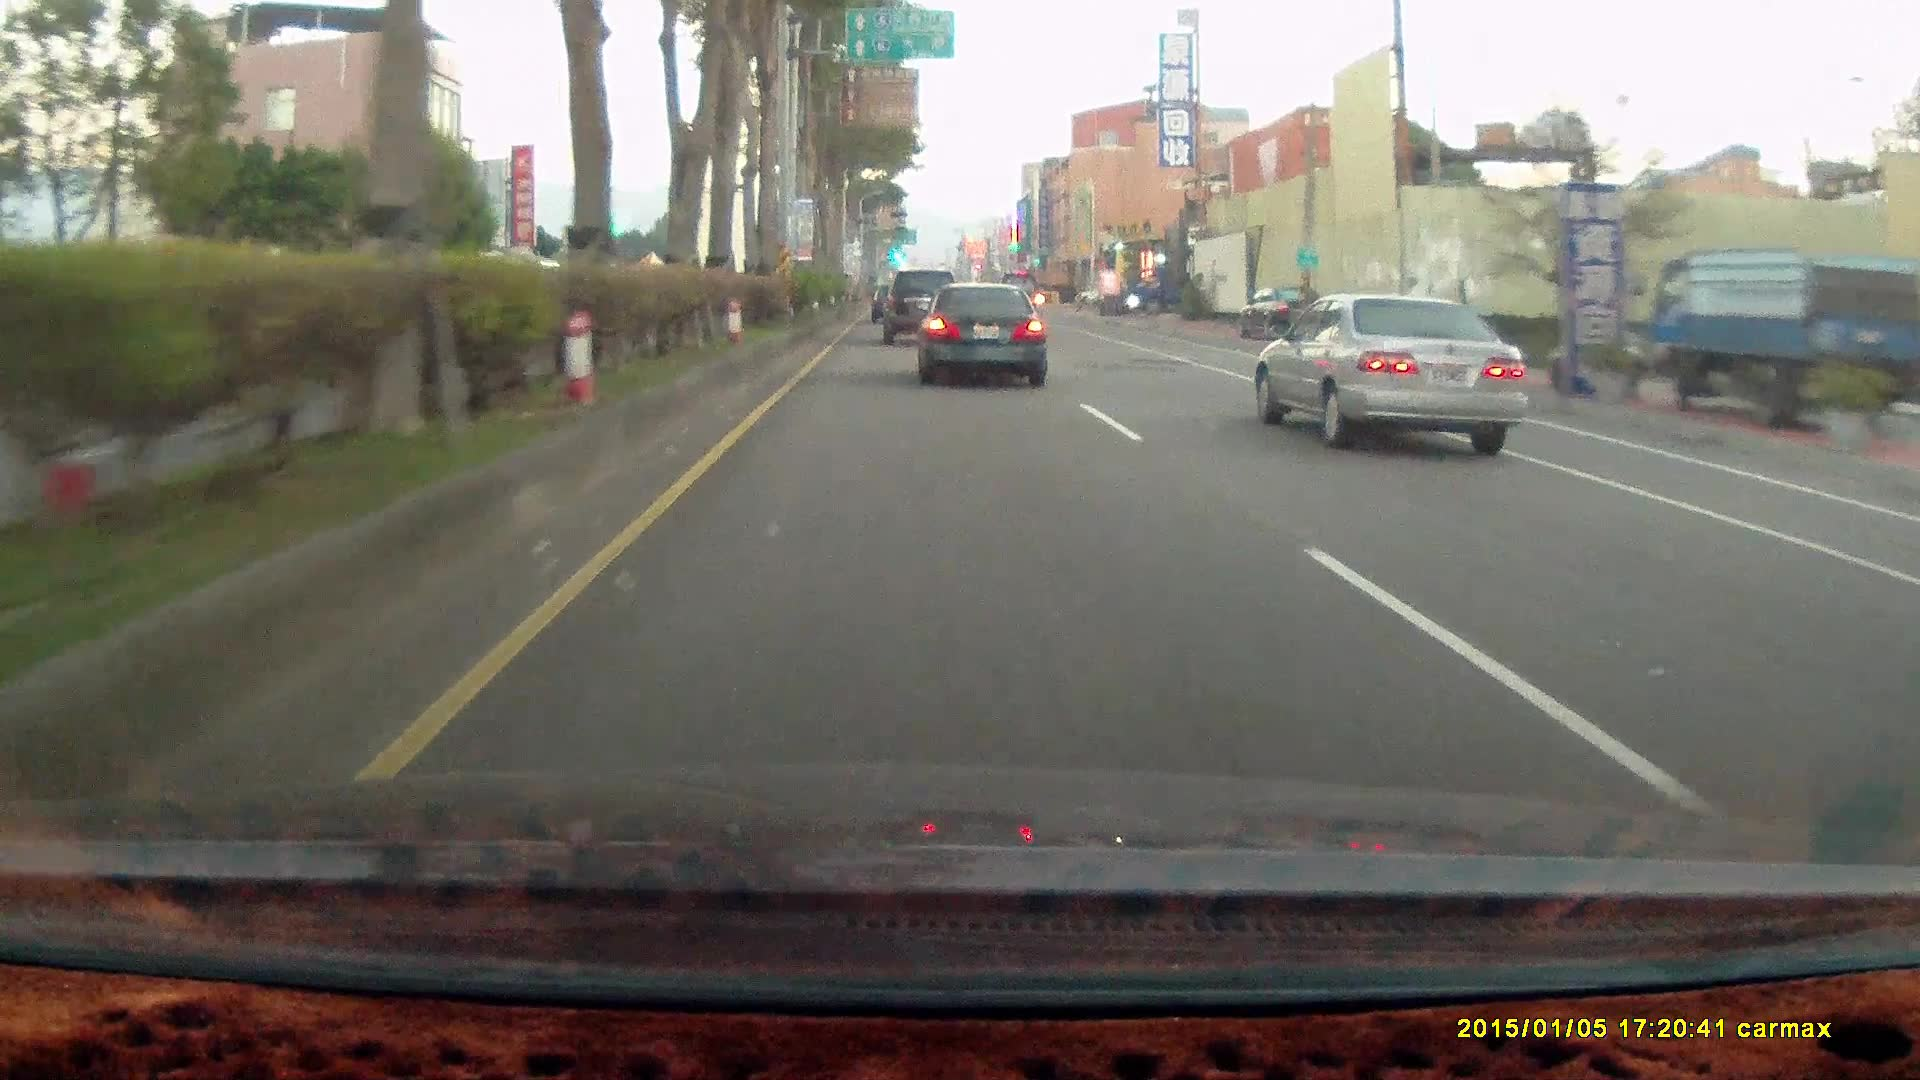vehicle: (1640, 248, 1920, 427), (1251, 293, 1528, 458), (1269, 295, 1542, 462), (913, 280, 1046, 385), (916, 286, 1048, 390), (882, 269, 963, 348), (1127, 268, 1205, 315)
